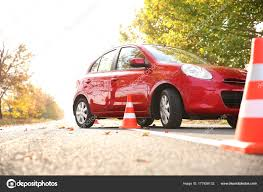car: (73, 45, 248, 129)
cone: (222, 34, 263, 153), (120, 95, 141, 130)
